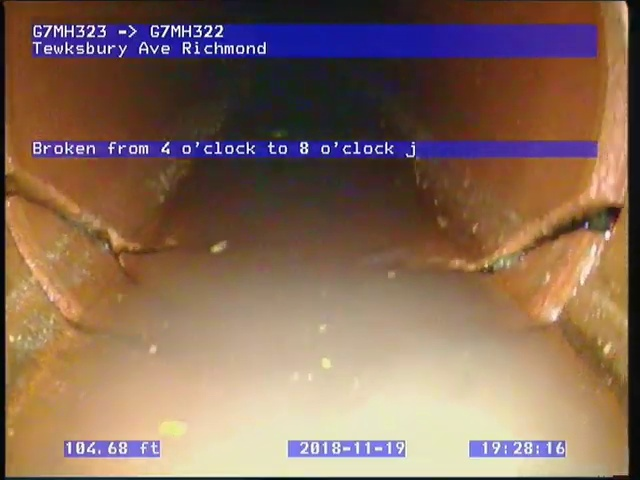crack: (5, 155, 166, 290), (457, 197, 628, 278)
